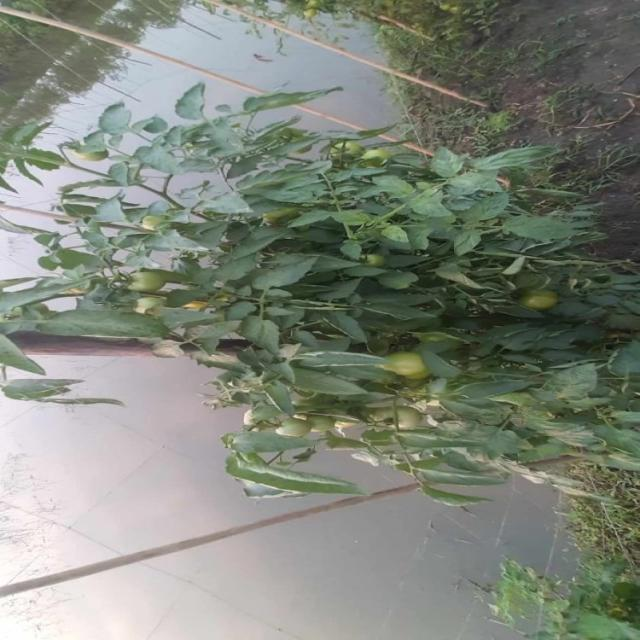tomato: (390, 348, 434, 386), (271, 415, 313, 450), (329, 128, 362, 172), (378, 408, 422, 438), (74, 140, 111, 175), (527, 289, 562, 319), (137, 210, 172, 238), (132, 266, 161, 298), (356, 145, 393, 164), (361, 249, 387, 271)
